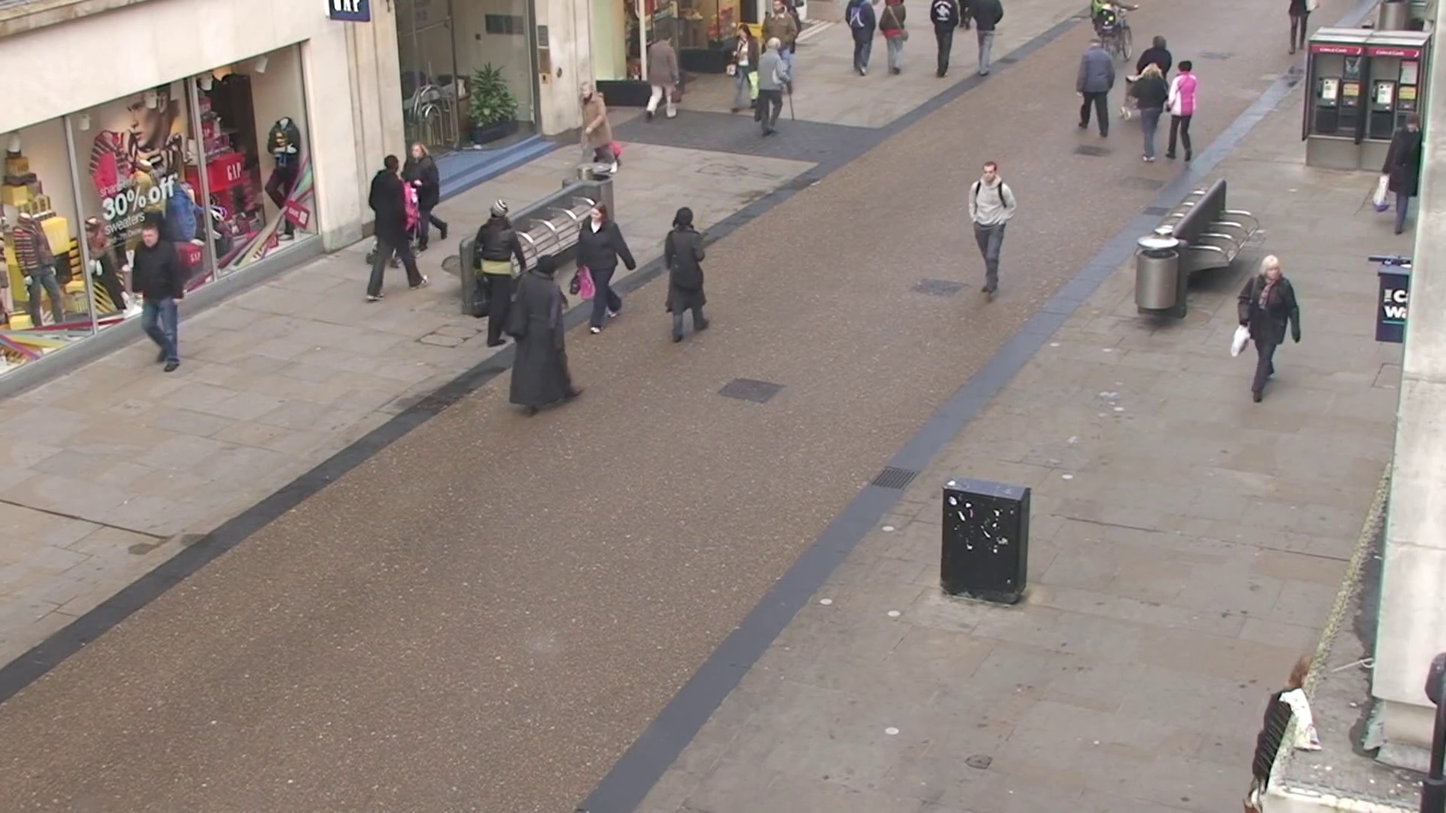person: (502, 256, 577, 413), (1236, 253, 1300, 406), (463, 199, 529, 344), (362, 153, 426, 298), (1382, 107, 1433, 282), (130, 220, 186, 373), (572, 200, 636, 333), (969, 161, 1017, 299), (661, 208, 710, 343), (401, 142, 446, 245), (1075, 32, 1117, 139), (1130, 55, 1171, 163), (752, 32, 794, 137), (577, 81, 622, 174), (870, 0, 913, 81), (644, 26, 681, 120), (1167, 58, 1199, 163), (967, 1, 1005, 75), (926, 0, 957, 86), (1271, 0, 1316, 59), (847, 0, 877, 75)
